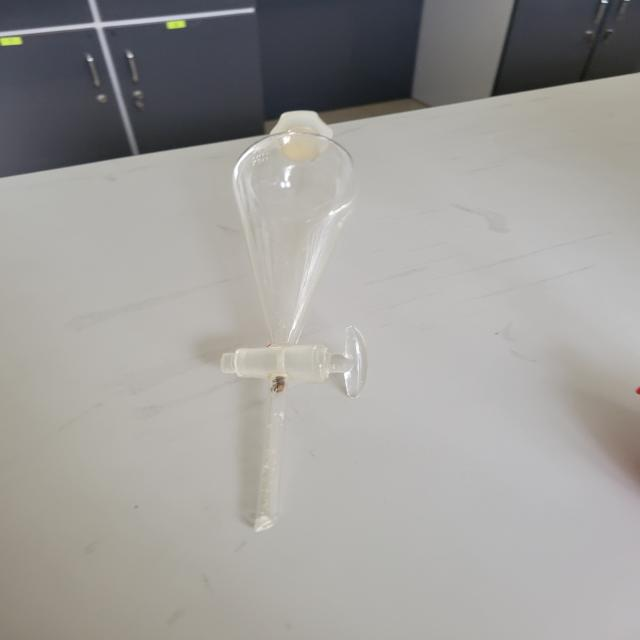Separating_Funnel: (162, 84, 424, 552)
